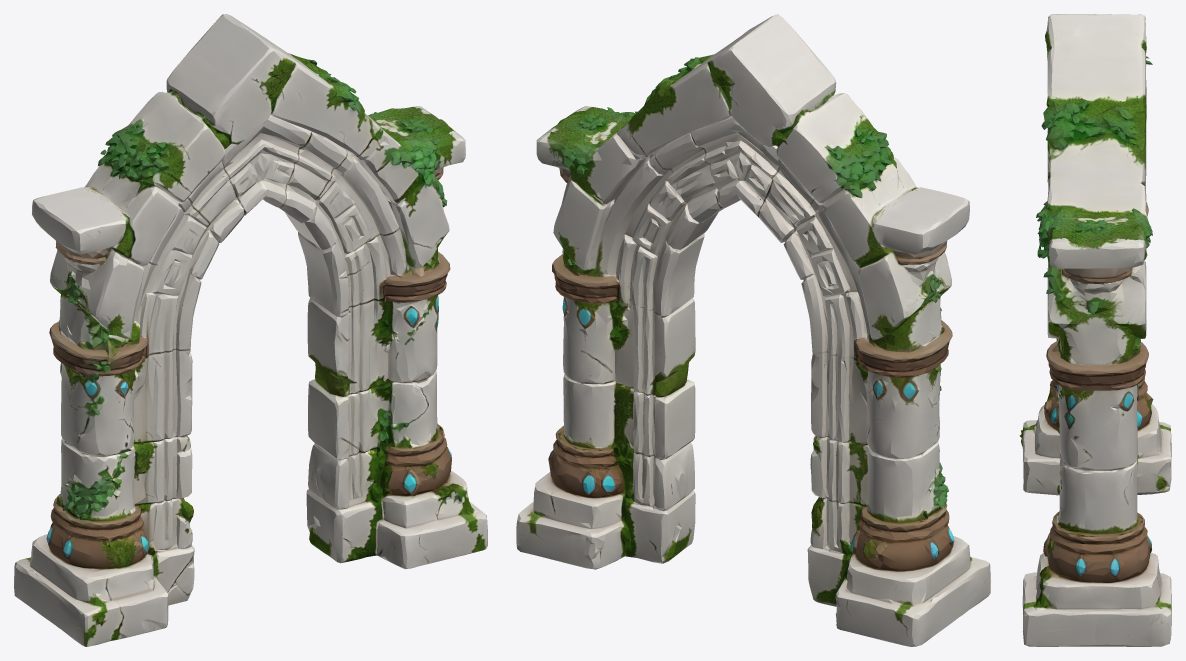
The model's file is ancient-arch.glb.
The picture shows the model from 3 angles, left to right: view 1: azimuth 30°, elevation 25°; view 2: azimuth 150°, elevation 25°; view 3: azimuth 270°, elevation 25°; orthographic projection.
Parts seen in each view (by area): view 1: Mesh; view 2: Mesh; view 3: Mesh.
Part boxes in pixels (bbox=[...]): Mesh: bbox=[14, 14, 487, 646]; Mesh: bbox=[516, 14, 990, 646]; Mesh: bbox=[1019, 14, 1171, 646].
Size of the model in its own units: 1.48 by 1.9 by 0.4881.
Materials: 1 (1 with a texture image).
